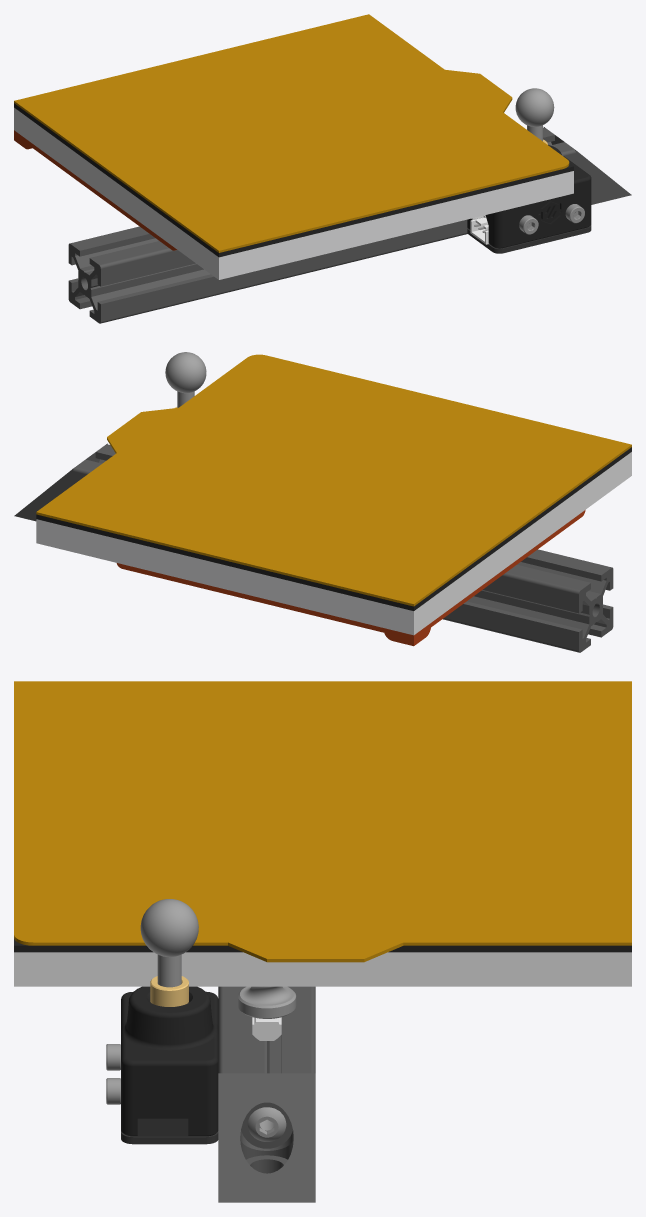
The picture shows the model from 3 angles, top to bottom: view 1: azimuth 30°, elevation 25°; view 2: azimuth 150°, elevation 25°; view 3: azimuth 270°, elevation 25°; orthographic projection. The views are drawn at different scales.
Visible parts, largest first — view 1: Flex Sheet, HFSB5-2020-370-TPW (9), 10in MIC6 Plate, Endstop Block, Magnet Sheet, Ball, 90deg Corner (OpenBuilds), Bed heater, SOLID; view 2: Flex Sheet, 10in MIC6 Plate, HFSB5-2020-370-TPW (9), Magnet Sheet, Bed heater, Ball, 90deg Corner (OpenBuilds); view 3: Flex Sheet, 10in MIC6 Plate, Endstop Block, 90deg Corner (OpenBuilds), HFSB5-2020-370-TPW (9), Magnet Sheet, Ball, M4 Knurled Nut DIN 466-B, M5x16 BHCS (21), 8x10x5mm Bushing, SOLID, Shaft.
Boxes of the visible parts, x1,y1,x2,y2 form: Flex Sheet: (14, 14, 569, 252); HFSB5-2020-370-TPW (9): (68, 127, 575, 323); 10in MIC6 Plate: (14, 107, 573, 279); Endstop Block: (467, 145, 591, 248); Magnet Sheet: (14, 103, 573, 257); Ball: (515, 88, 554, 126); 90deg Corner (OpenBuilds): (543, 127, 631, 204); Bed heater: (14, 130, 177, 250); SOLID: (467, 225, 591, 253); Flex Sheet: (36, 354, 631, 606); 10in MIC6 Plate: (36, 452, 631, 635); HFSB5-2020-370-TPW (9): (73, 444, 613, 652); Magnet Sheet: (36, 447, 631, 610); Bed heater: (116, 510, 585, 646); Ball: (165, 352, 206, 393); 90deg Corner (OpenBuilds): (14, 443, 107, 521); Flex Sheet: (14, 681, 631, 962); 10in MIC6 Plate: (14, 952, 631, 986); Endstop Block: (121, 986, 218, 1136); 90deg Corner (OpenBuilds): (218, 1073, 315, 1202); HFSB5-2020-370-TPW (9): (218, 986, 315, 1073); Magnet Sheet: (14, 938, 631, 952); Ball: (140, 899, 198, 957); M4 Knurled Nut DIN 466-B: (238, 986, 296, 1018); M5x16 BHCS (21): (247, 1107, 286, 1141); 8x10x5mm Bushing: (150, 976, 188, 1006); SOLID: (121, 1131, 218, 1144); Shaft: (157, 954, 181, 987).
Size of the model in its own units: 0.19 by 0.0496 by 0.127.
